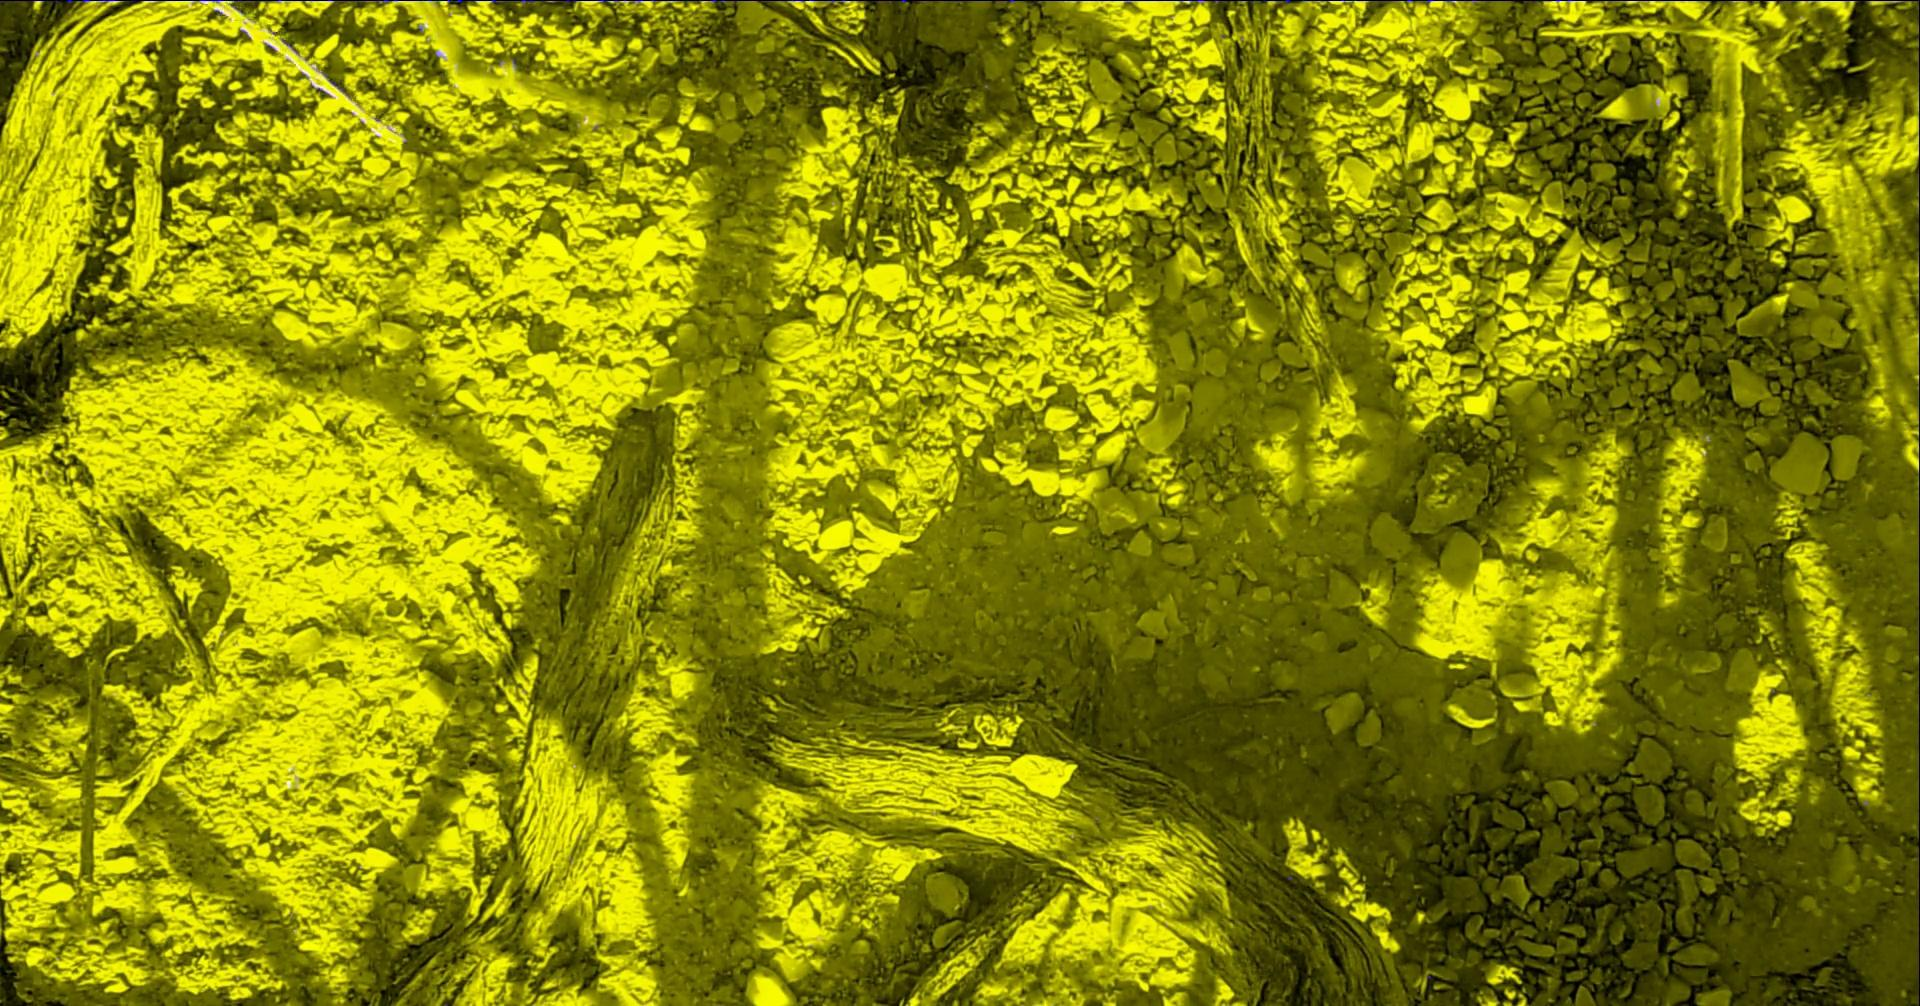ant: (230, 0, 270, 9), (918, 0, 1023, 3), (1917, 500, 1919, 652), (490, 0, 546, 3)
